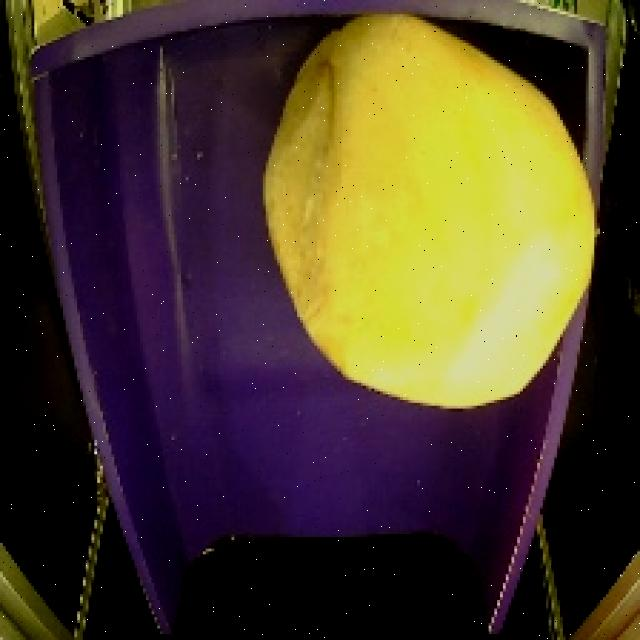full_potato: (250, 6, 614, 426)
